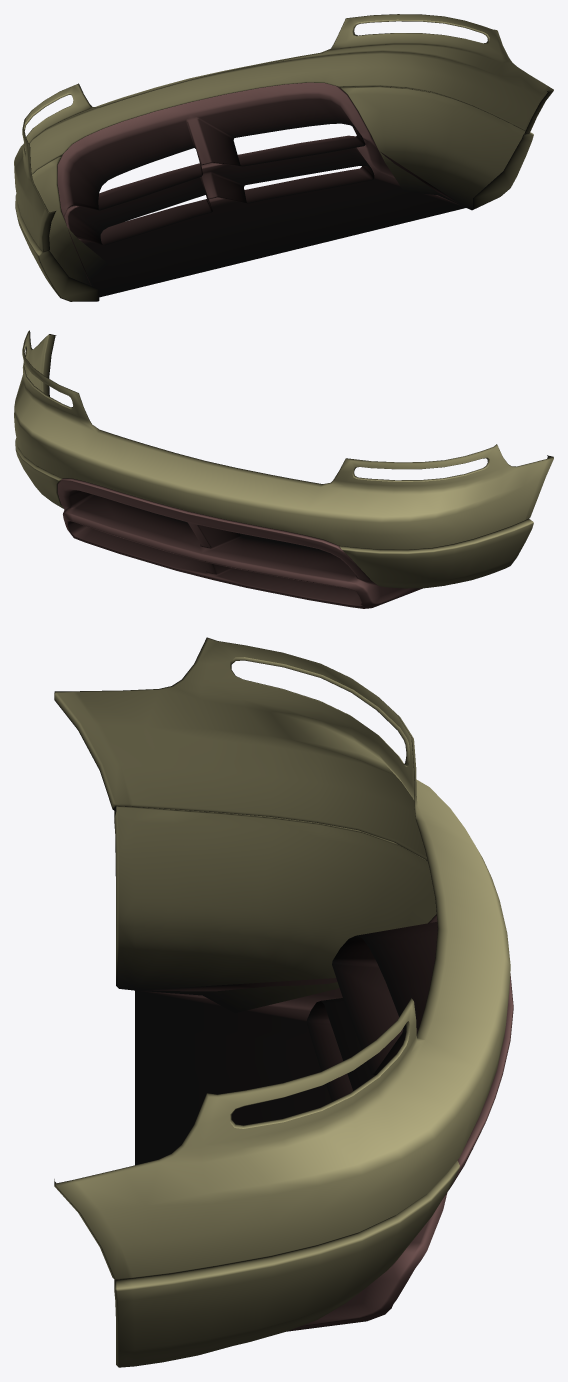
Rendered from Viper_RB_03_Duco.fbx.
3 views of the same model, one above another, from view 1: azimuth 30°, elevation 25°; view 2: azimuth 150°, elevation 25°; view 3: azimuth 270°, elevation 25° (orthographic). The views are drawn at different scales.
Parts seen in each view (by area): view 1: Viper_RB_03_Duco; view 2: Viper_RB_03_Duco; view 3: Viper_RB_03_Duco.
Boxes of the visible parts, <box> form: Viper_RB_03_Duco: <box>14,14,553,301</box>; Viper_RB_03_Duco: <box>14,330,553,608</box>; Viper_RB_03_Duco: <box>54,637,513,1367</box>.
Size of the model in its own units: 191 by 56.15 by 75.03.
